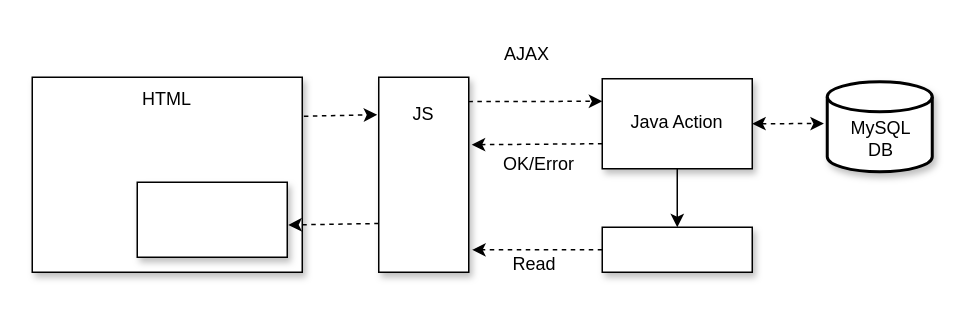
Some shapes in this 969 by 315 pixel diagram are drawn without their labels. Each missing label, with the centre of its shape:
HTML Fragment: (213,221)
JSP: (678,251)
